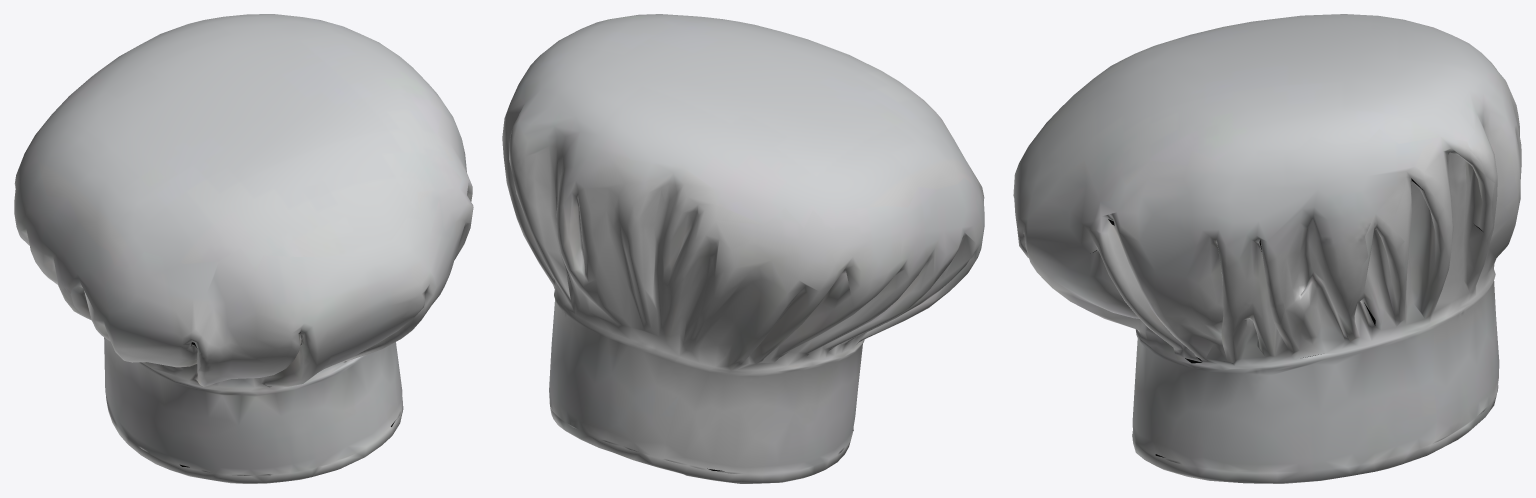
File: chef.glb
3 views of the same model, side by side, from view 1: azimuth 30°, elevation 25°; view 2: azimuth 150°, elevation 25°; view 3: azimuth 270°, elevation 25° (orthographic). The views are drawn at different scales.
Parts seen in each view (by area): view 1: node_0; view 2: node_0; view 3: node_0.
Boxes of the visible parts, x1,y1,x2,y2 form: node_0: (14,14,473,483); node_0: (502,14,984,483); node_0: (1013,14,1521,483).
Bounding box in the file's own units: 0.46 × 0.4139 × 0.472.
1 material, 1 textured.
